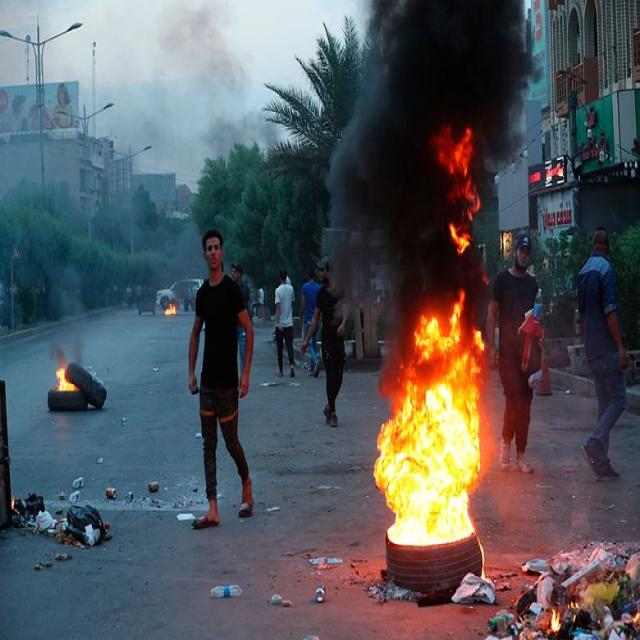fire: (375, 359, 480, 543), (432, 125, 479, 219), (416, 289, 465, 360)
